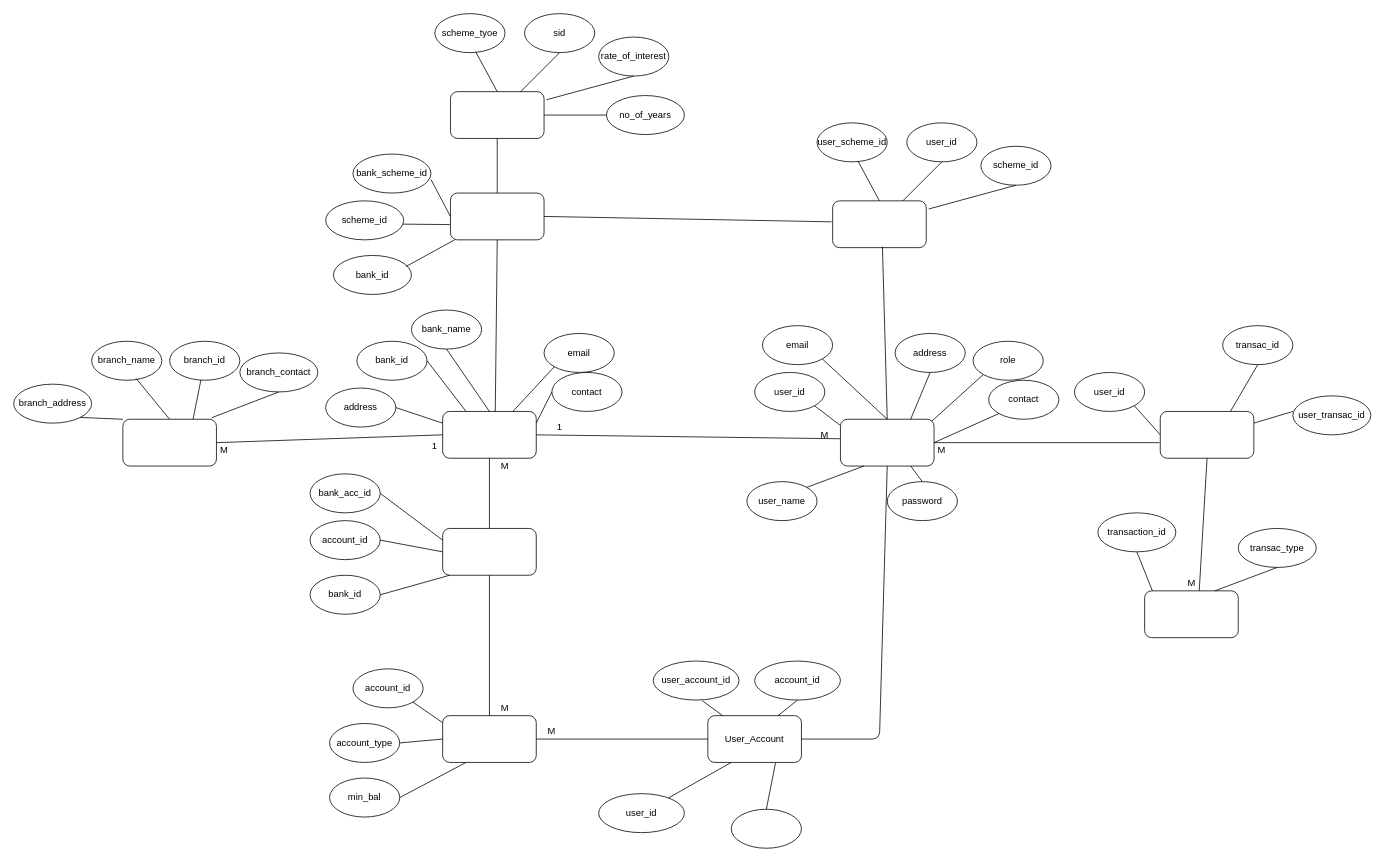
The diagram is 1385 pixels wide and 862 high, and some of its shapes have lost their labels. Each missing label, with the centre of its shape:
"Account" goes at point 489,738.
"Bank" goes at point 489,434.
"Bank_account" goes at point 489,551.
"Bank_scheme" goes at point 497,216.
"Branch" goes at point 169,442.
"is_active" goes at point 765,828.
"Scheme" goes at point 497,114.
"Transaction" goes at point 1191,614.
"User" goes at point 887,442.
"User_Scheme" goes at point 879,224.
"User_trasaction" goes at point 1206,434.
